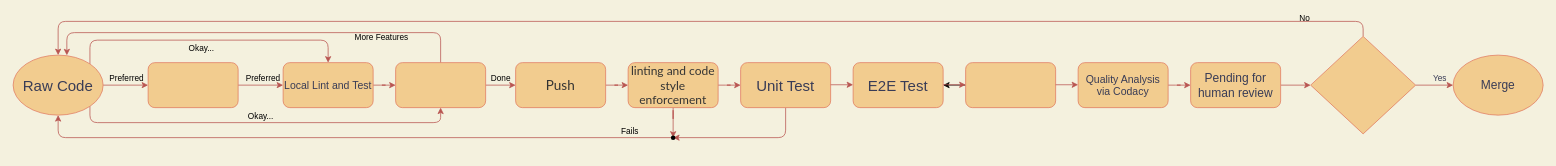
Image size: 1556x166. Some labels were removed from this diagram. Each missing label, with the centre of its shape:
Add Tests: the point at 192,85
Commit(s): the point at 440,85
Doc Generation: the point at 1010,85
Pull Request Approve: the point at 1363,85
